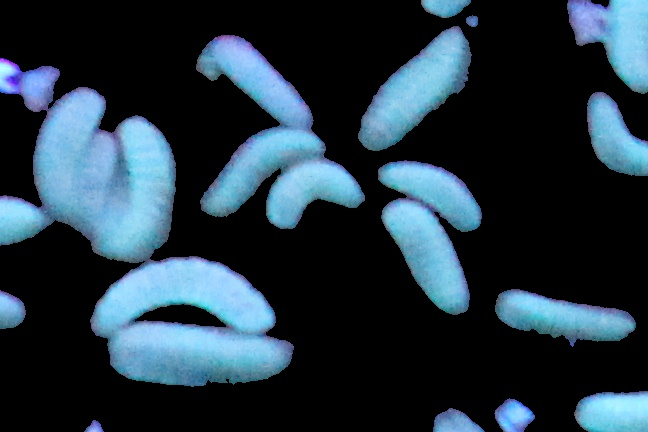larvae: (361, 24, 474, 152), (89, 259, 283, 330), (198, 28, 322, 126), (108, 324, 296, 384), (107, 115, 185, 257), (31, 93, 109, 223), (205, 126, 324, 210), (495, 284, 647, 348), (387, 203, 467, 315), (378, 156, 493, 217), (269, 162, 364, 232), (580, 90, 646, 180), (77, 126, 124, 206), (568, 386, 648, 429), (1, 199, 59, 244)
